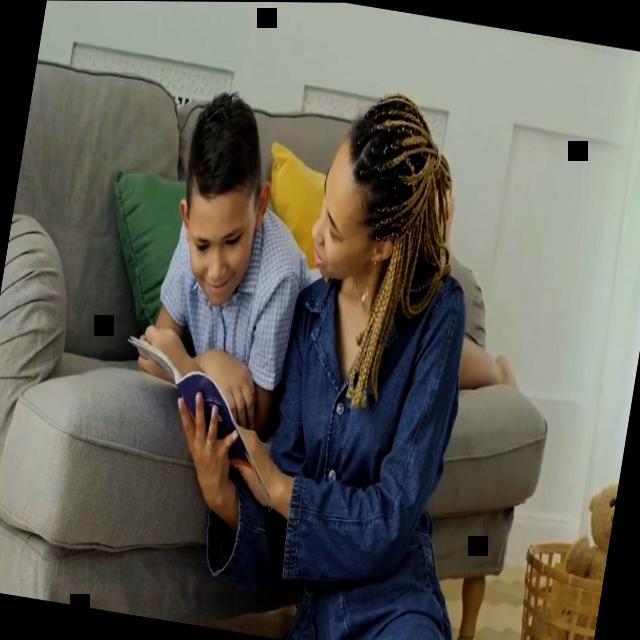NO-Mask: (304, 145, 384, 284), (177, 182, 261, 313)
